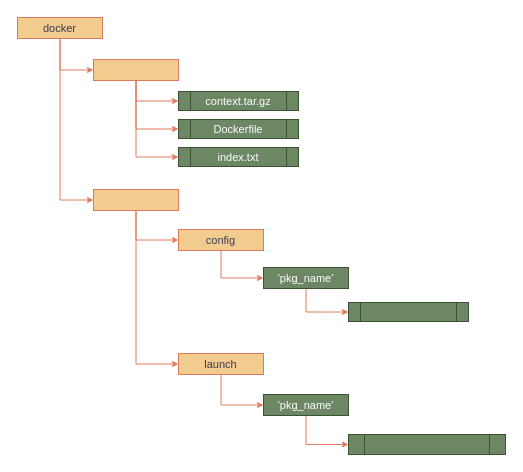
Image size: 523x472. Some labels were removed from this diagram. The centre of each missing label's shape, as x and y in pixels:
'pkg_name'.launch.py: point 427,444
'pkg_name'.yaml: point 408,312
build-context: point 135,69
run: point 135,199
